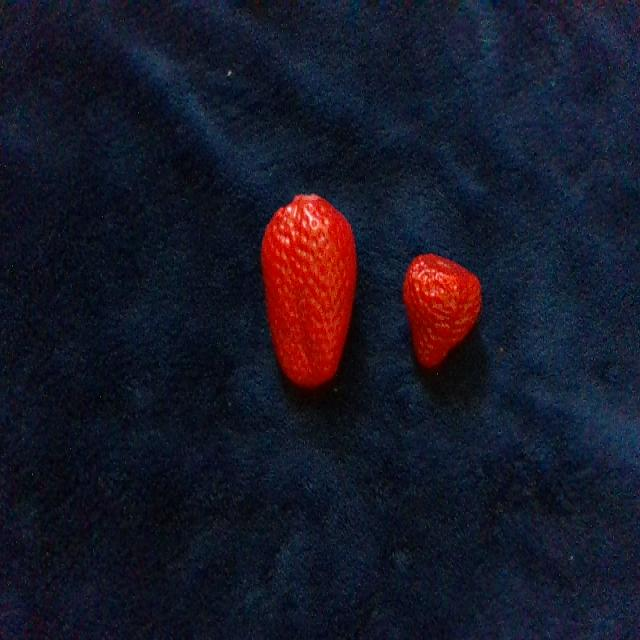chica_roja: (403, 255, 481, 367)
grande_roja: (262, 196, 355, 387)
